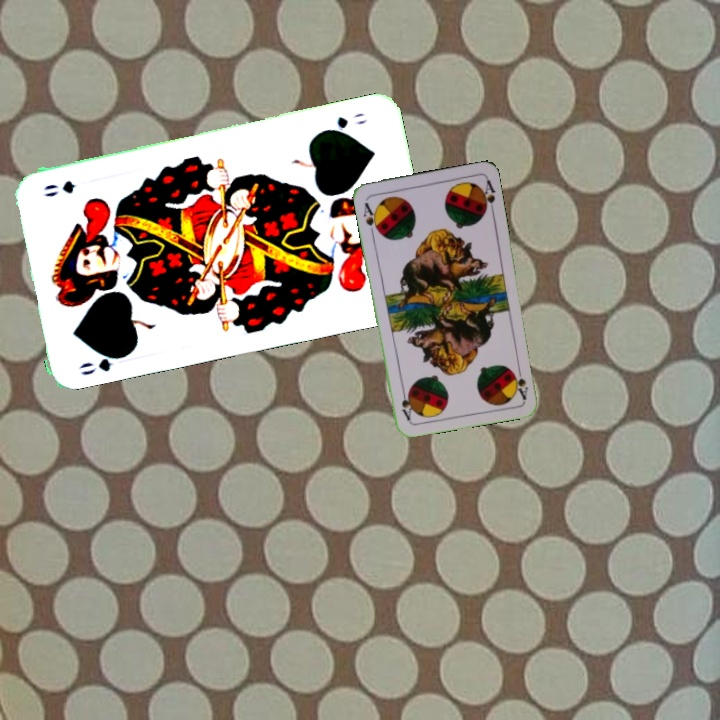GO: (74, 348, 129, 378), (318, 108, 370, 135)
SA: (509, 361, 531, 402), (359, 198, 382, 237)
